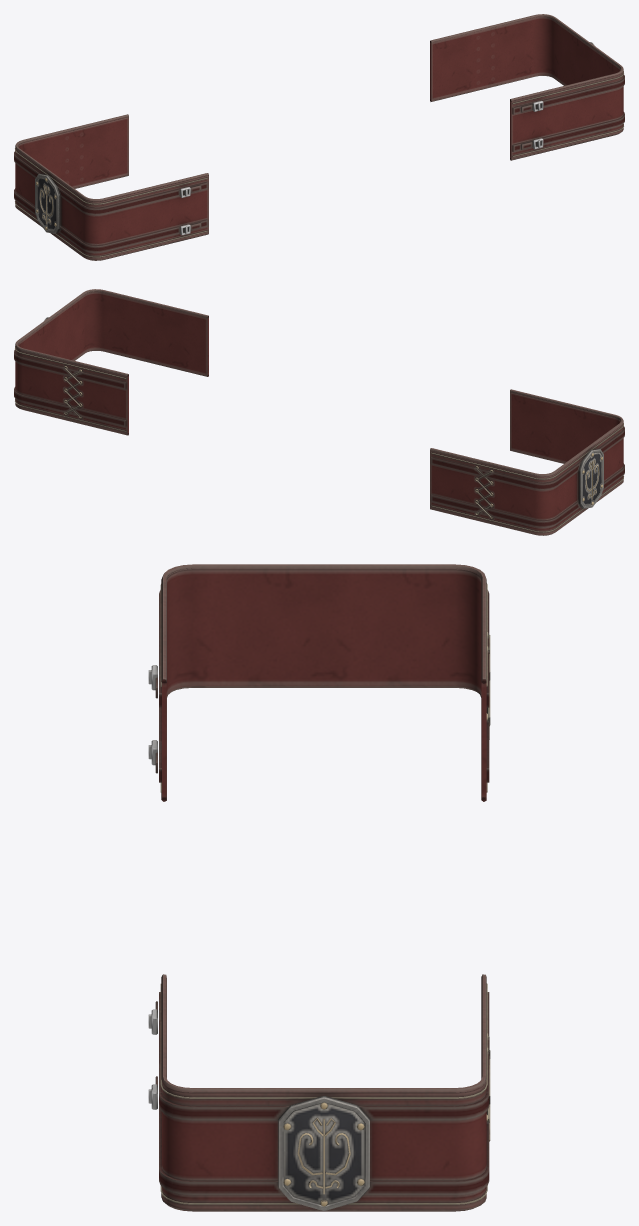
The model's file is NHAcc_Bracers.fbx.
3 views of the same model, one above another, from view 1: azimuth 30°, elevation 25°; view 2: azimuth 150°, elevation 25°; view 3: azimuth 270°, elevation 25° (orthographic). The views are drawn at different scales.
Visible parts, largest first — view 1: BracerL, BracerR; view 2: BracerL, BracerR; view 3: BracerL, BracerR.
Boxes of the visible parts, x1,y1,x2,y2 form: BracerL: (430,14,624,160); BracerR: (14,114,208,260); BracerL: (14,289,208,435); BracerR: (430,389,624,535); BracerL: (148,974,490,1211); BracerR: (148,564,490,801).
Size of the model in its own units: 4.13 by 0.443 by 1.12.
